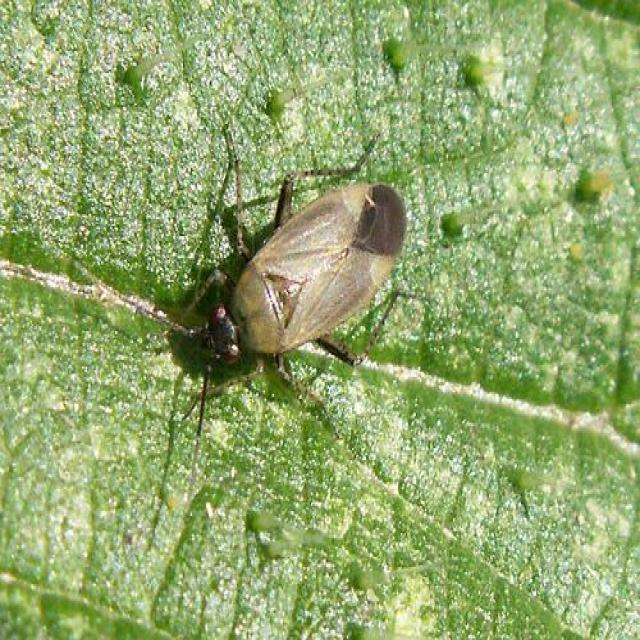Miridae-Adult-: (147, 101, 438, 445)
